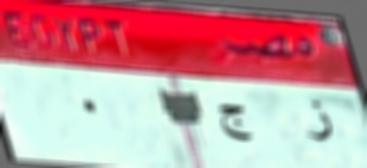0: (77, 91, 102, 119)
jeem: (214, 98, 256, 150)
zay: (301, 95, 335, 149)
